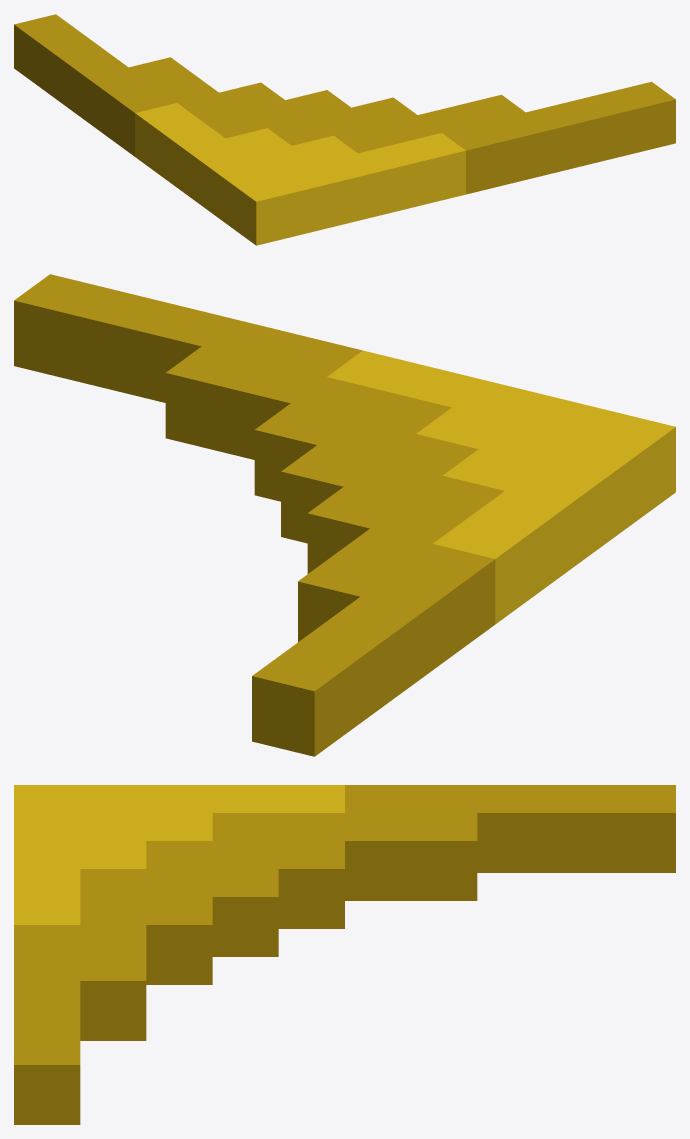
The model's file is path_yellow_cuve.obj.
3 renders of one model, top to bottom at view 1: azimuth 30°, elevation 25°; view 2: azimuth 150°, elevation 25°; view 3: azimuth 270°, elevation 25°, orthographic. The views are drawn at different scales.
Size of the model in its own units: 1 by 0.1 by 1.
Materials: 1 (1 with a texture image).
